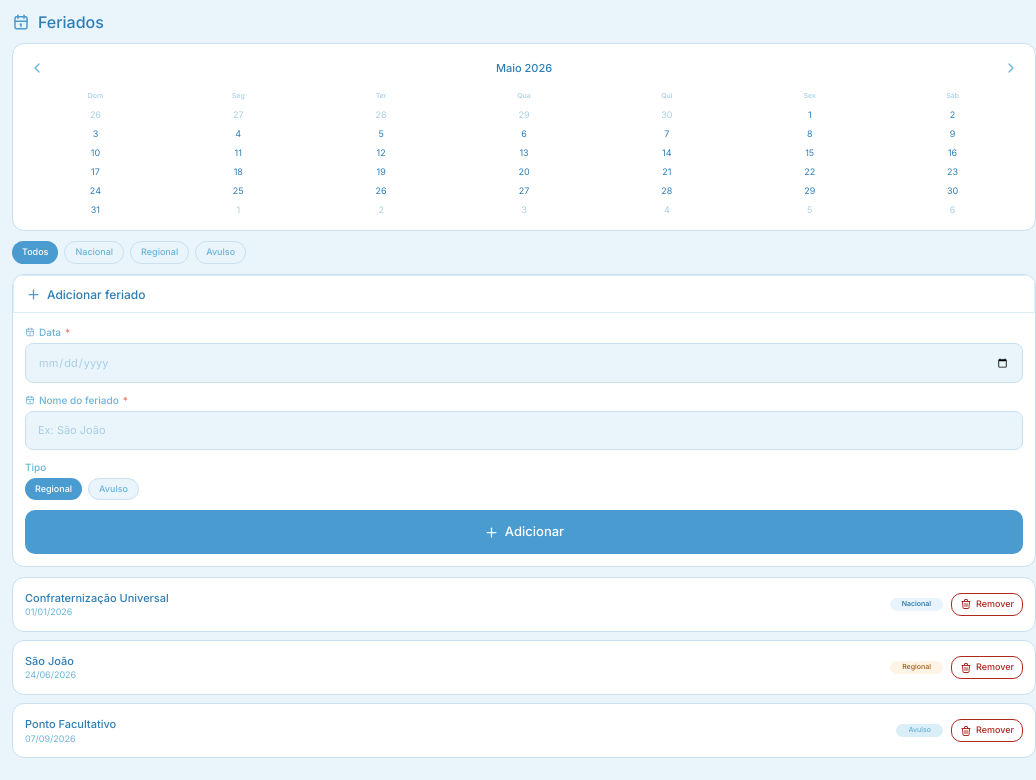
Test case: FeriadosPage — filtros › filtra por Avulso ao clicar no chip
Click the 1st button "Avulso".
click(221, 252)  # box [195, 241, 246, 264]
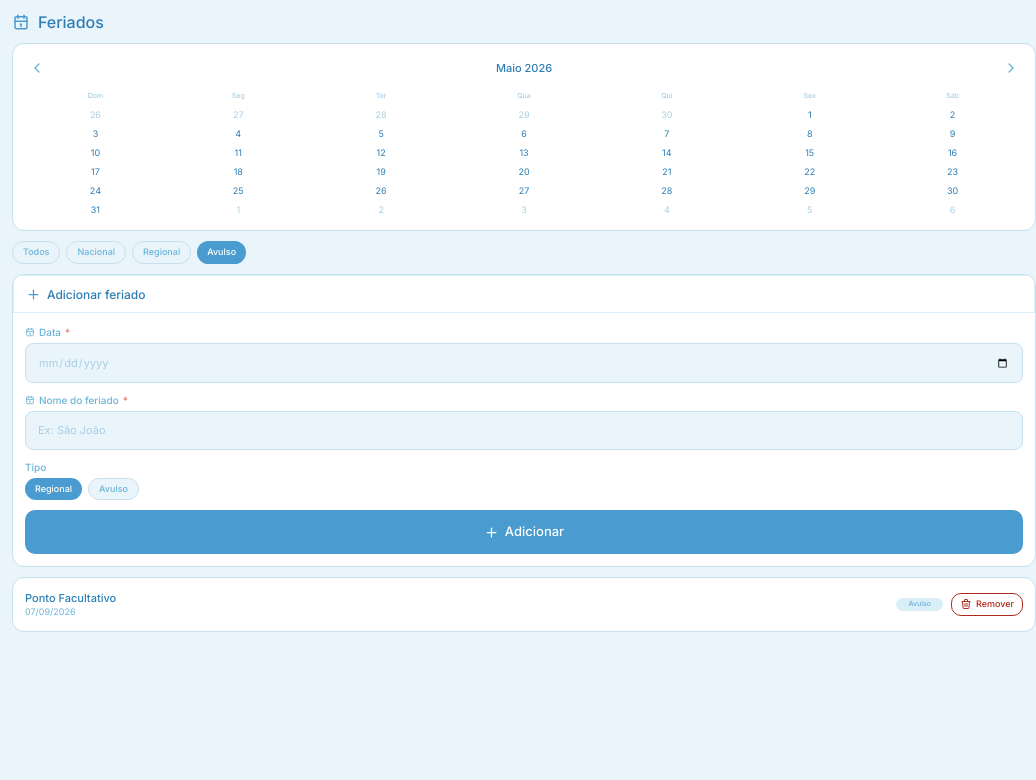
Expected: the text "Ponto Facultativo" is shown, [25, 591, 116, 605]
Expected: the text "Confraternização Universal" is gone
